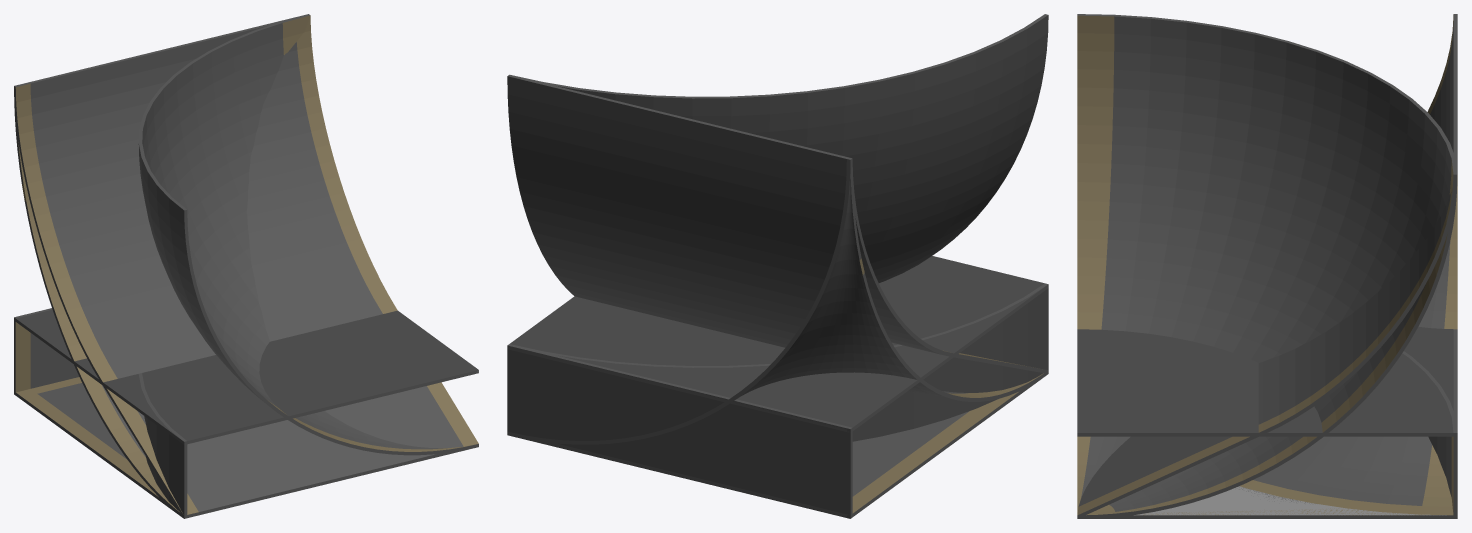
File: wall_track.glb
The picture shows the model from 3 angles, left to right: view 1: azimuth 30°, elevation 25°; view 2: azimuth 150°, elevation 25°; view 3: azimuth 270°, elevation 25°; orthographic projection. The views are drawn at different scales.
Visible parts, largest first — view 1: WallTrackSlopeToVertical, WallTrackBottomCorner, WallTrackCeiling, WallTrackBottom, WallTrackFloor, WallTrackMiddle, WallTrackMiddleCorner, WallTrackBottomInnerCorner; view 2: WallTrackBottom, WallTrackBottomCorner, WallTrackCeiling, WallTrackMiddle, WallTrackBottomInnerCorner, WallTrackMiddleCorner, WallTrackFloor, WallTrackSlopeToVertical; view 3: WallTrackBottomCorner, WallTrackCeiling, WallTrackSlopeToVertical, WallTrackBottomInnerCorner, WallTrackFloorPlaneCorner, WallTrackBottom, WallTrackMiddleCorner, WallTrackFloor, WallTrackMiddle, WallTrackFloorCorner.
Boxes of the visible parts, x1=… form: WallTrackSlopeToVertical: x1=15, y1=16, x2=478, y2=515; WallTrackBottomCorner: x1=138, y1=14, x2=475, y2=455; WallTrackCeiling: x1=15, y1=309, x2=478, y2=444; WallTrackBottom: x1=14, y1=14, x2=478, y2=518; WallTrackFloor: x1=15, y1=377, x2=184, y2=518; WallTrackMiddle: x1=14, y1=308, x2=79, y2=395; WallTrackMiddleCorner: x1=138, y1=373, x2=187, y2=515; WallTrackBottomInnerCorner: x1=14, y1=86, x2=179, y2=512; WallTrackBottom: x1=507, y1=75, x2=1043, y2=397; WallTrackBottomCorner: x1=508, y1=14, x2=1048, y2=282; WallTrackCeiling: x1=507, y1=256, x2=1048, y2=432; WallTrackMiddle: x1=507, y1=344, x2=852, y2=518; WallTrackBottomInnerCorner: x1=507, y1=158, x2=1045, y2=444; WallTrackMiddleCorner: x1=514, y1=283, x2=1048, y2=441; WallTrackFloor: x1=507, y1=370, x2=1048, y2=517; WallTrackSlopeToVertical: x1=852, y1=167, x2=1048, y2=372; WallTrackBottomCorner: x1=1077, y1=14, x2=1453, y2=518; WallTrackCeiling: x1=1077, y1=327, x2=1453, y2=436; WallTrackSlopeToVertical: x1=1077, y1=14, x2=1457, y2=518; WallTrackBottomInnerCorner: x1=1240, y1=175, x2=1457, y2=515; WallTrackFloorPlaneCorner: x1=1134, y1=486, x2=1446, y2=515; WallTrackBottom: x1=1079, y1=14, x2=1457, y2=518; WallTrackMiddleCorner: x1=1402, y1=351, x2=1457, y2=518; WallTrackFloor: x1=1085, y1=515, x2=1453, y2=518; WallTrackMiddle: x1=1453, y1=329, x2=1457, y2=432; WallTrackFloorCorner: x1=1139, y1=486, x2=1444, y2=515.
Bounding box in the file's own units: 20 × 20 × 20.
